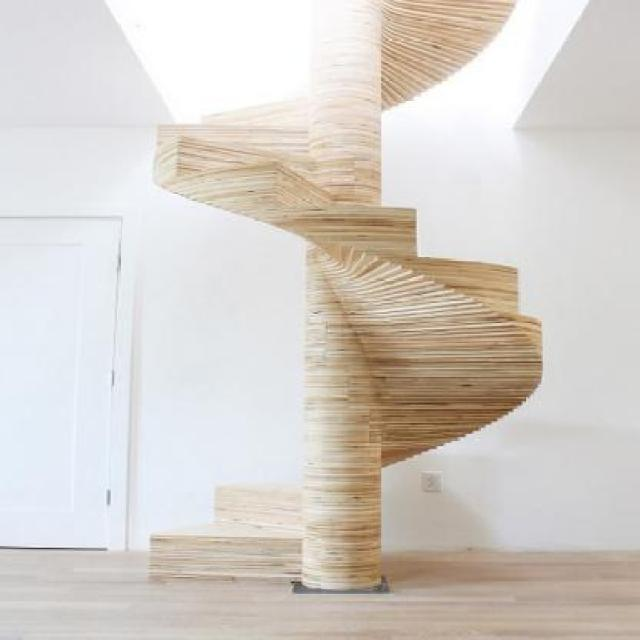stair: (93, 0, 541, 577)
